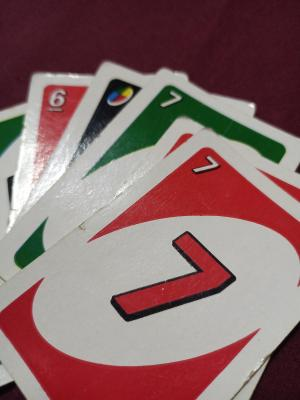colour: (102, 77, 138, 113)
num_6: (43, 84, 70, 116)
num_7: (100, 227, 243, 326), (186, 148, 226, 180), (156, 88, 186, 113)
